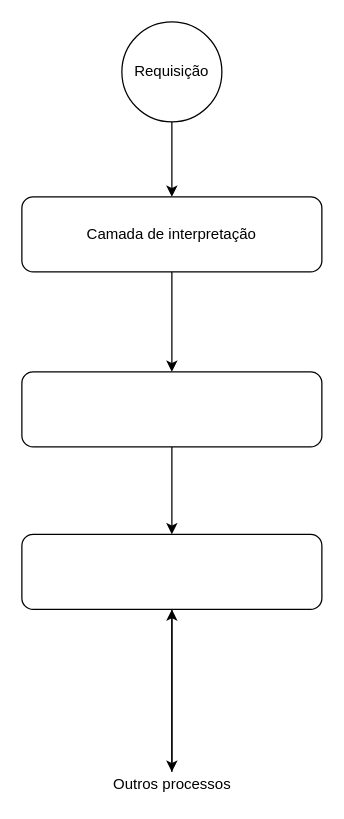
Some shapes in this 344 by 819 pixel diagram are drawn without their labels. Each missing label, with the centre of its shape:
Camada de comunicação: pixel 171 571
Camada de processamento: pixel 171 409
